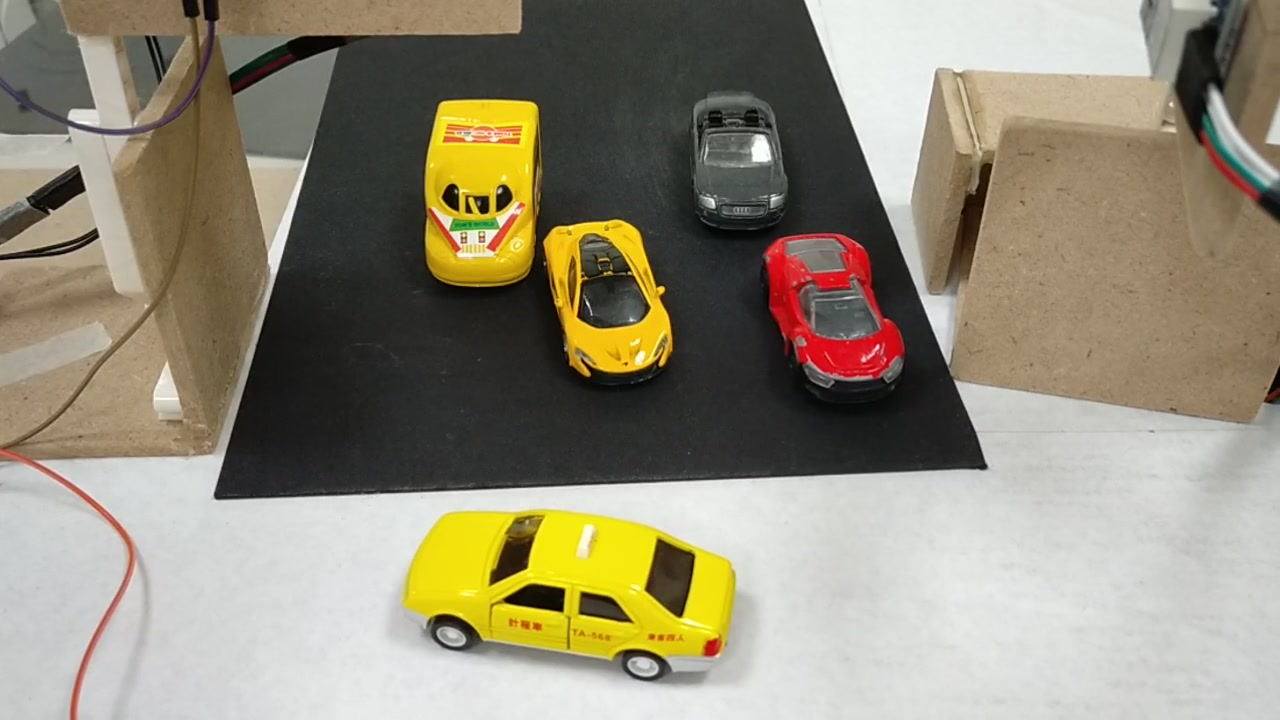car: (408, 510, 739, 693), (765, 233, 912, 397), (540, 224, 673, 382), (688, 97, 794, 238)
